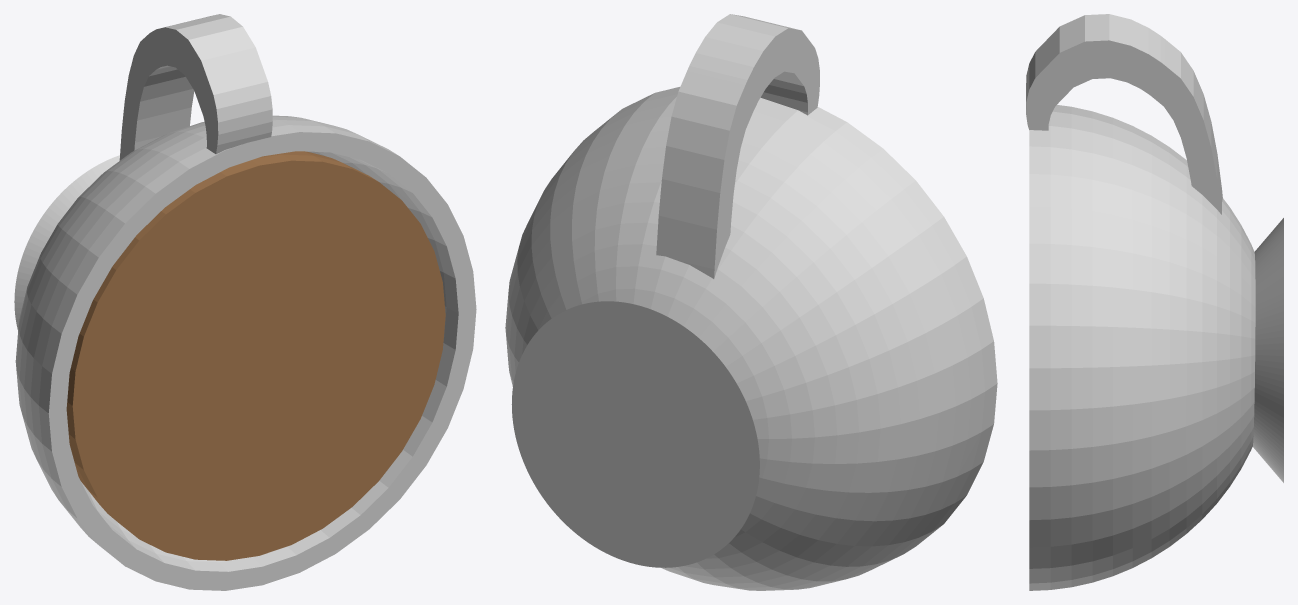
File: kafija_p.obj
3 renders of one model, left to right at view 1: azimuth 30°, elevation 25°; view 2: azimuth 150°, elevation 25°; view 3: azimuth 270°, elevation 25°, orthographic. The views are drawn at different scales.
Parts seen in each view (by area): view 1: group_0_11107152, group_0_16448250; view 2: group_0_16448250; view 3: group_0_16448250.
Boxes of the visible parts, x1,y1,x2,y2 form: group_0_11107152: [66, 151, 445, 560]; group_0_16448250: [14, 14, 476, 590]; group_0_16448250: [505, 14, 997, 590]; group_0_16448250: [1026, 14, 1283, 590].
Size of the model in its own units: 50 by 60 by 26.33.
